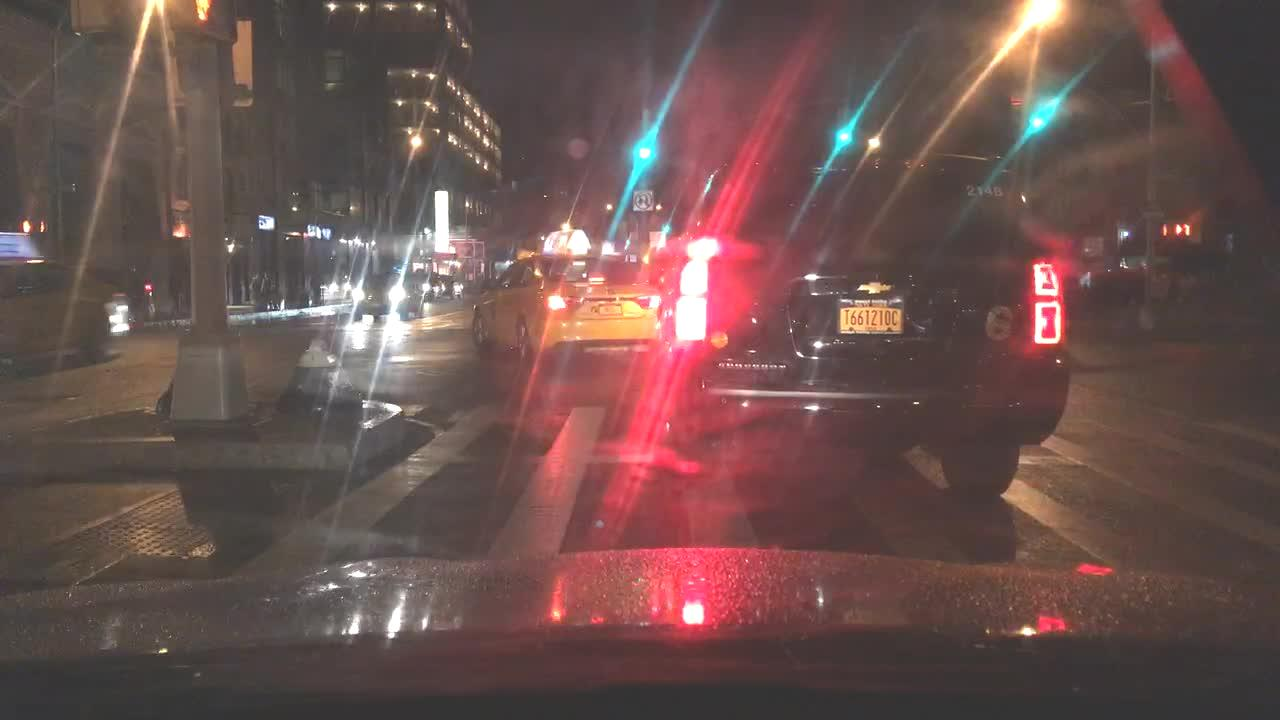chevrolet: (850, 271, 911, 295)
